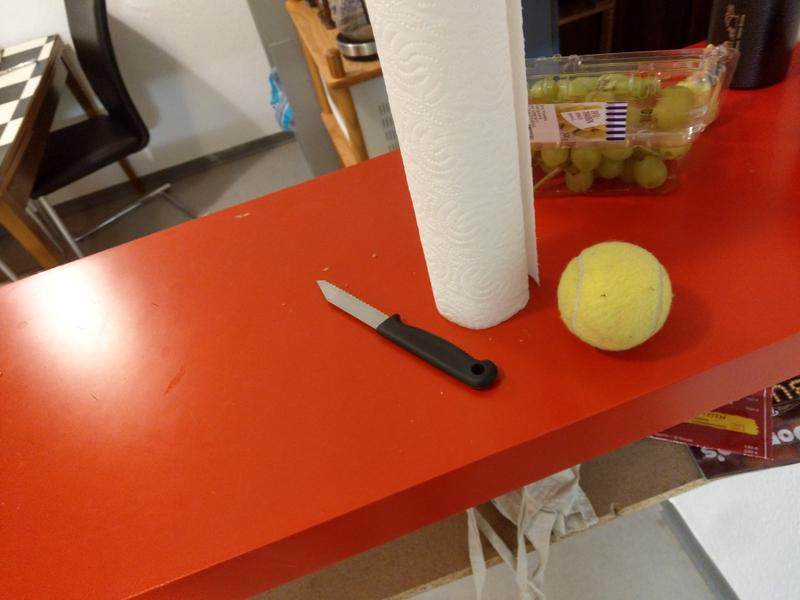Tennisball: (553, 237, 675, 354)
